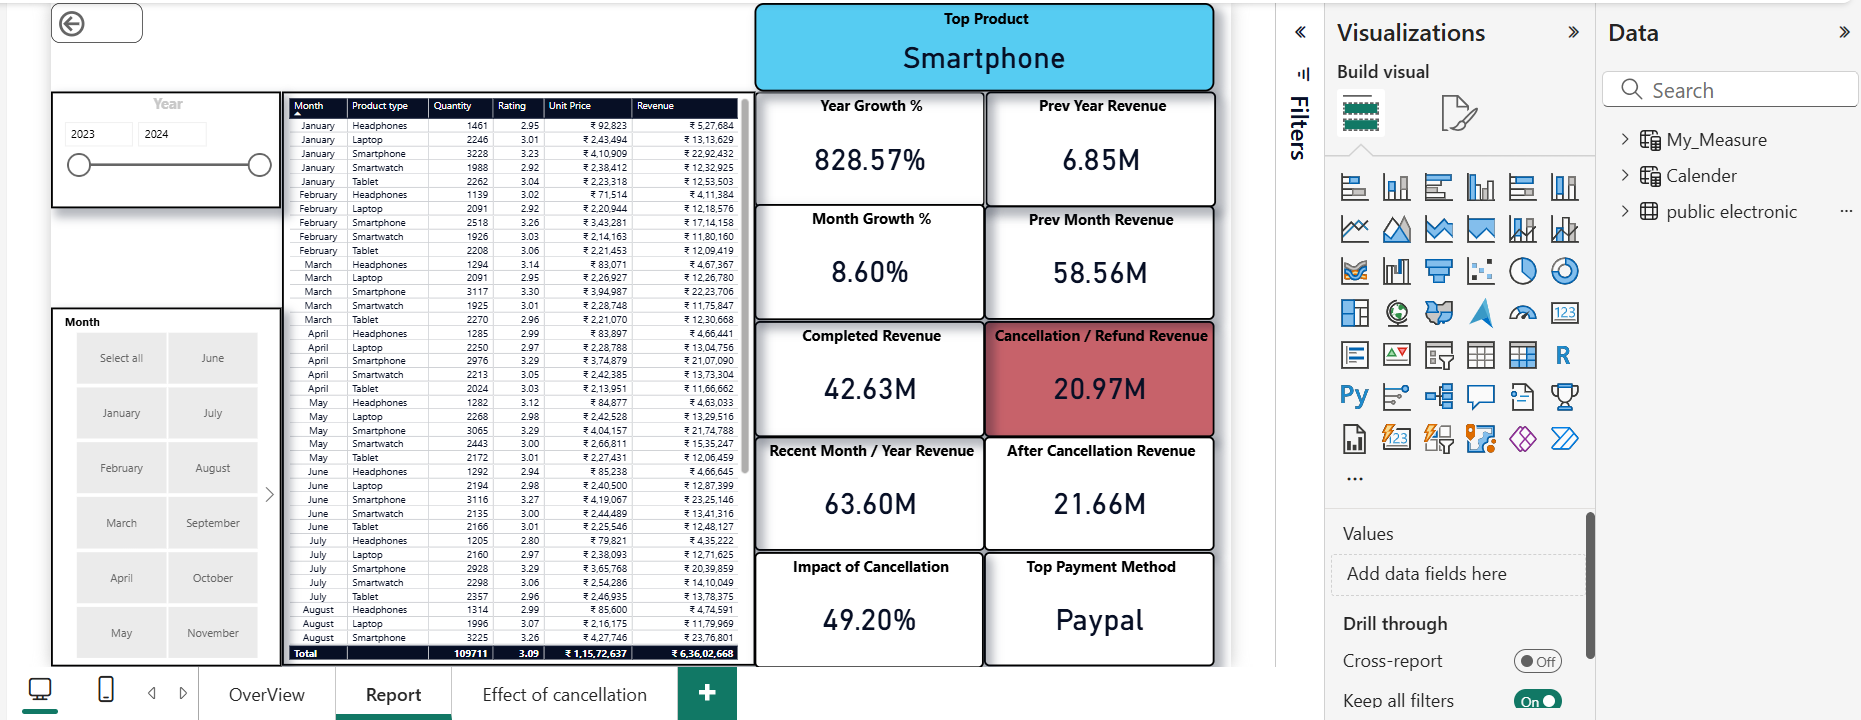

This screenshot's page, from the dashboard's own definition file:
{"tool":"powerbi","page":{"name":"Report","canvas":[1280,720],"ordinal":1},"visuals":[{"type":"card","title":"Cancellation / Refund Revenue","fields":{"Values":["public electronic.CanRevenue"]},"box":[1012.1,344.5,250.1,125.9],"z":0},{"type":"card","title":"Completed Revenue","fields":{"Values":["public electronic.CompRevenue"]},"box":[763.6,344.5,250.1,125.9],"z":1000},{"type":"card","title":"Recent Month / Year Revenue","fields":{"Values":["public electronic.Revenue"]},"box":[763.6,470.4,250.1,124.2],"z":2000},{"type":"card","title":"Prev Month Revenue","fields":{"Values":["public electronic.Prev_Month"]},"box":[1012.1,220.3,250.1,124.2],"z":3000},{"type":"card","title":"Prev Year Revenue","fields":{"Values":["My_Measure.Prev_Year"]},"box":[1012.9,96.4,250,125],"z":4000},{"type":"card","title":"Year Growth %","fields":{"Values":["My_Measure.YoY % Growth"]},"box":[763.6,96.1,250,125],"z":5000},{"type":"card","title":"Month Growth %","fields":{"Values":["My_Measure.MoM % Growth"]},"box":[763.6,218.7,250.1,125.9],"z":6000},{"type":"tableEx","fields":{"Values":["Calender.Date.Variation.Date Hierarchy.Month","public electronic.product_type","Sum(public electronic.quantity)","Avg(public electronic.rating)","Sum(public electronic.unit_price)","Sum(public electronic.amount)"]},"box":[250.1,96.1,513.5,622.8],"z":7000},{"type":"slicer","title":"Year","fields":{"Values":["Calender.Date.Variation.Date Hierarchy.Year"]},"box":[0,96.4,249.5,126.6],"z":8000},{"type":"slicer","fields":{"Values":["Calender.Date.Variation.Date Hierarchy.Month"]},"box":[0,329.6,250.1,389.3],"z":9000},{"type":"card","title":"After Cancellation Revenue","fields":{"Values":["My_Measure.Total"]},"box":[1012.1,470.4,250.1,124.2],"z":10000},{"type":"actionButton","box":[0,0,99.4,43.1],"z":11000},{"type":"card","title":"Top Payment Method","fields":{"Values":["My_Measure.TopPaymentMethod"]},"box":[1012.1,594.7,250.1,124.2],"z":12000},{"type":"card","title":"Top Product","fields":{"Values":["My_Measure.TopProduct"]},"box":[763.6,0,498.6,96.1],"z":13000},{"type":"card","title":"Impact of Cancellation","fields":{"Values":["My_Measure.CancellationImpact"]},"box":[763.6,594.7,248.5,125.9],"z":14000}]}

Visuals, with their boxes on the page's 1280x720 design canvas (x1, y1, x2, y2). These are canvas units, not pixel positions in the 1861x720 screenshot, which may show the page scaled, cropped or inside an application window:
"Cancellation / Refund Revenue" card: box(1012, 344, 1262, 470)
"Completed Revenue" card: box(764, 344, 1014, 470)
"Recent Month / Year Revenue" card: box(764, 470, 1014, 595)
"Prev Month Revenue" card: box(1012, 220, 1262, 344)
"Prev Year Revenue" card: box(1013, 96, 1263, 221)
"Year Growth %" card: box(764, 96, 1014, 221)
"Month Growth %" card: box(764, 219, 1014, 345)
tableEx - Calender.Date.Variation.Date Hierarchy.Month x public electronic.product_type: box(250, 96, 764, 719)
"Year" slicer: box(0, 96, 250, 223)
slicer - Calender.Date.Variation.Date Hierarchy.Month: box(0, 330, 250, 719)
"After Cancellation Revenue" card: box(1012, 470, 1262, 595)
actionButton: box(0, 0, 99, 43)
"Top Payment Method" card: box(1012, 595, 1262, 719)
"Top Product" card: box(764, 0, 1262, 96)
"Impact of Cancellation" card: box(764, 595, 1012, 721)
